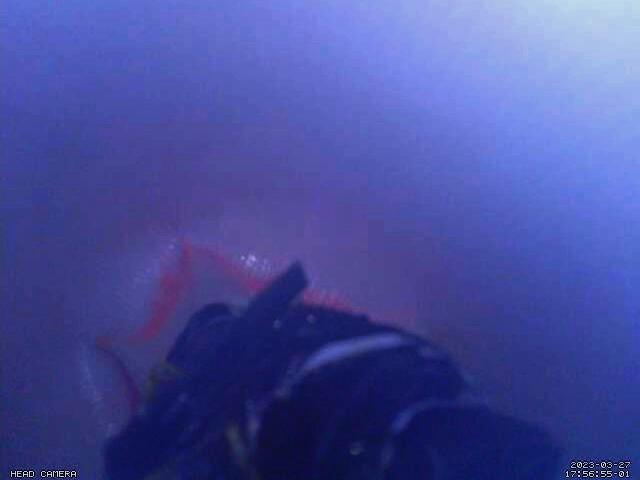head: (97, 239, 366, 421)
